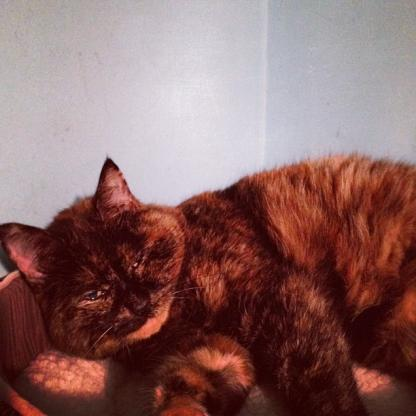Target: (1, 150, 416, 416)
